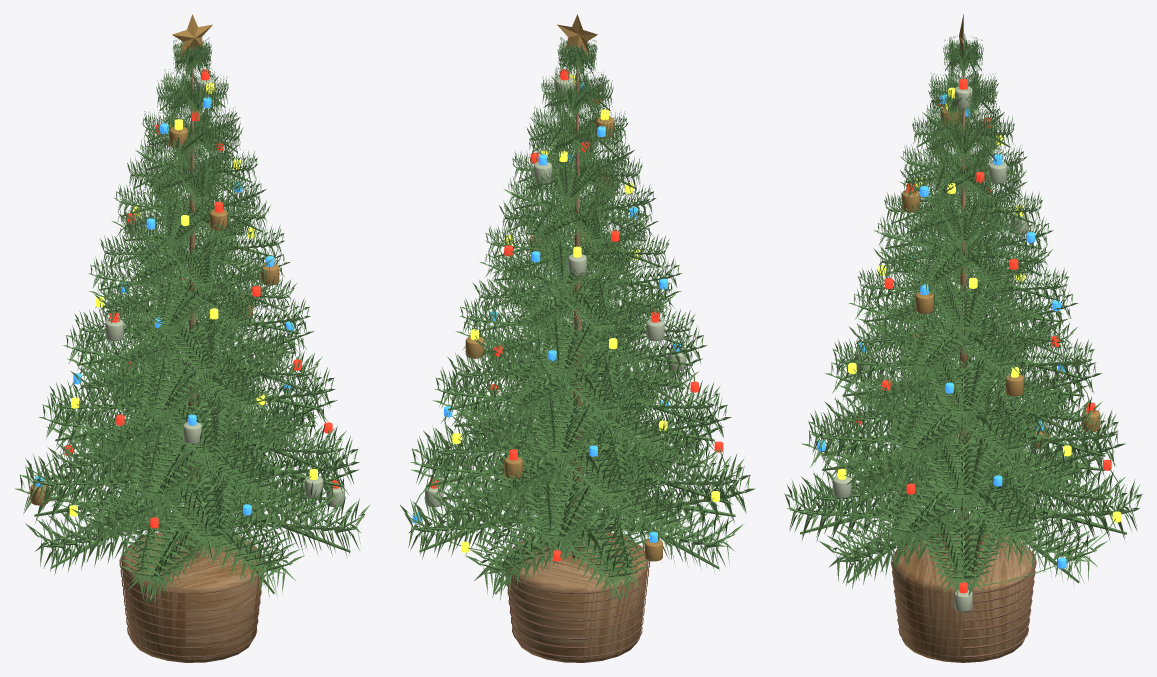
Rendered from christmas-slim-tree.glb.
The picture shows the model from 3 angles, left to right: view 1: azimuth 30°, elevation 25°; view 2: azimuth 150°, elevation 25°; view 3: azimuth 270°, elevation 25°; orthographic projection.
Visible parts, largest first — view 1: catalog_surface_RealismUV, catalog_surface_UVMap, linked_bough_0_5, linked_bough_0_6, linked_bough_1_4, linked_bough_1_5, linked_bough_0_4, linked_bough_2_5, linked_bough_0_7, linked_bough_2_6, linked_bough_1_6, linked_bough_2_4 (+61 smaller); view 2: catalog_surface_RealismUV, catalog_surface_UVMap, linked_bough_0_2, linked_bough_0_3, linked_bough_1_2, linked_bough_1_3, linked_bough_1_1, linked_bough_0_1, linked_bough_0_4, linked_bough_2_3, linked_bough_2_2, linked_bough_3_1 (+61 smaller); view 3: catalog_surface_RealismUV, catalog_surface_UVMap, linked_bough_0_7, linked_bough_0_0, linked_bough_1_7, linked_bough_1_0, linked_bough_0_1, linked_bough_2_7, linked_bough_2_0, linked_bough_1_1, linked_bough_3_7, linked_bough_2_1 (+61 smaller).
Boxes of the visible parts, x1,y1,x2,y2 form: catalog_surface_RealismUV: [30, 14, 344, 662]; catalog_surface_UVMap: [35, 69, 339, 528]; linked_bough_0_5: [119, 505, 237, 605]; linked_bough_0_6: [164, 497, 304, 597]; linked_bough_1_4: [71, 460, 210, 552]; linked_bough_1_5: [151, 468, 250, 563]; linked_bough_0_4: [25, 485, 185, 575]; linked_bough_2_5: [129, 426, 231, 517]; linked_bough_0_7: [208, 484, 369, 557]; linked_bough_2_6: [167, 421, 290, 512]; linked_bough_1_6: [191, 450, 338, 535]; linked_bough_2_4: [47, 413, 185, 492]; catalog_surface_RealismUV: [425, 14, 686, 662]; catalog_surface_UVMap: [412, 69, 724, 561]; linked_bough_0_2: [465, 501, 605, 600]; linked_bough_0_3: [532, 503, 649, 605]; linked_bough_1_2: [523, 468, 625, 563]; linked_bough_1_3: [559, 453, 698, 549]; linked_bough_1_1: [431, 455, 578, 540]; linked_bough_0_1: [400, 483, 563, 559]; linked_bough_0_4: [585, 485, 744, 571]; linked_bough_2_3: [538, 428, 640, 516]; linked_bough_2_2: [479, 423, 602, 512]; linked_bough_3_1: [451, 381, 578, 455]; catalog_surface_RealismUV: [832, 14, 1100, 662]; catalog_surface_UVMap: [817, 78, 1121, 593]; linked_bough_0_7: [819, 493, 974, 588]; linked_bough_0_0: [909, 508, 1017, 603]; linked_bough_1_7: [876, 463, 994, 558]; linked_bough_1_0: [928, 459, 1050, 557]; linked_bough_0_1: [952, 491, 1107, 584]; linked_bough_2_7: [838, 422, 972, 503]; linked_bough_2_0: [914, 433, 1011, 521]; linked_bough_1_1: [976, 449, 1125, 523]; linked_bough_3_7: [889, 384, 992, 472]; linked_bough_2_1: [954, 414, 1088, 503].
Size of the model in its own units: 0.65 by 1.25 by 0.65.
8 materials, 1 textured.
